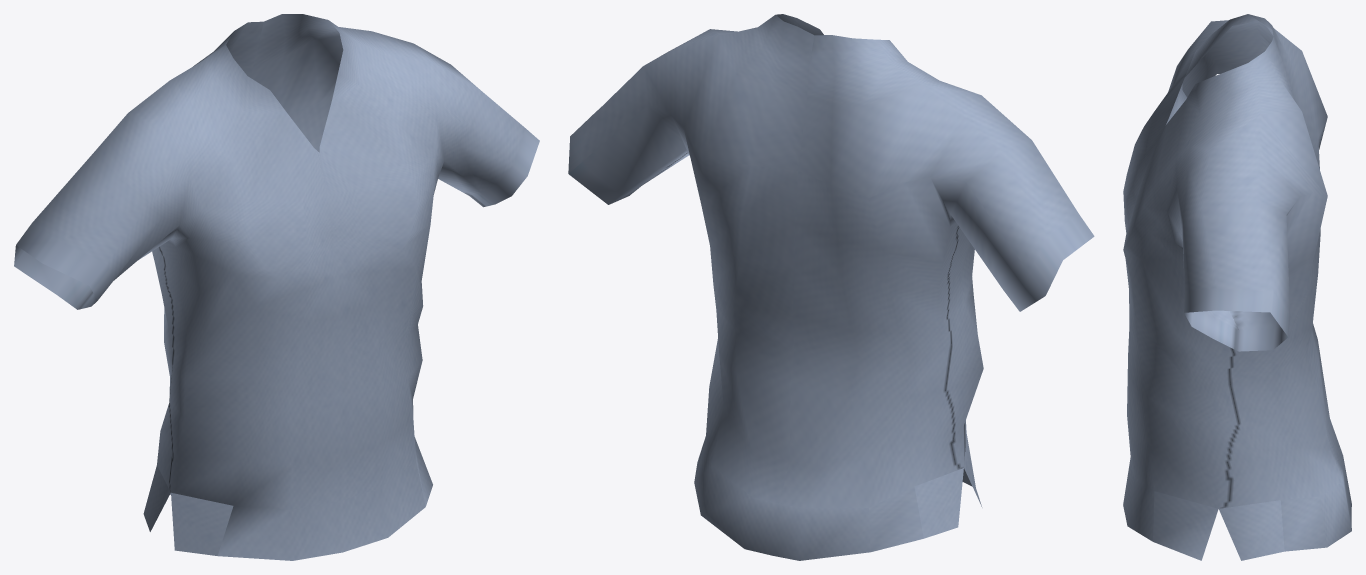
The model's file is tunica_servicio_01.glb.
3 renders of one model, left to right at view 1: azimuth 30°, elevation 25°; view 2: azimuth 150°, elevation 25°; view 3: azimuth 270°, elevation 25°, orthographic. The views are drawn at different scales.
Visible parts, largest first — view 1: torso; view 2: torso; view 3: torso.
Boxes of the visible parts, left/top/right/bottom form: torso: left=14, top=14, right=539, bottom=560; torso: left=568, top=14, right=1094, bottom=560; torso: left=1123, top=14, right=1351, bottom=560.
Bounding box in the file's own units: 0.6424 × 0.6086 × 0.2607.
Materials: 1 (1 with a texture image).
